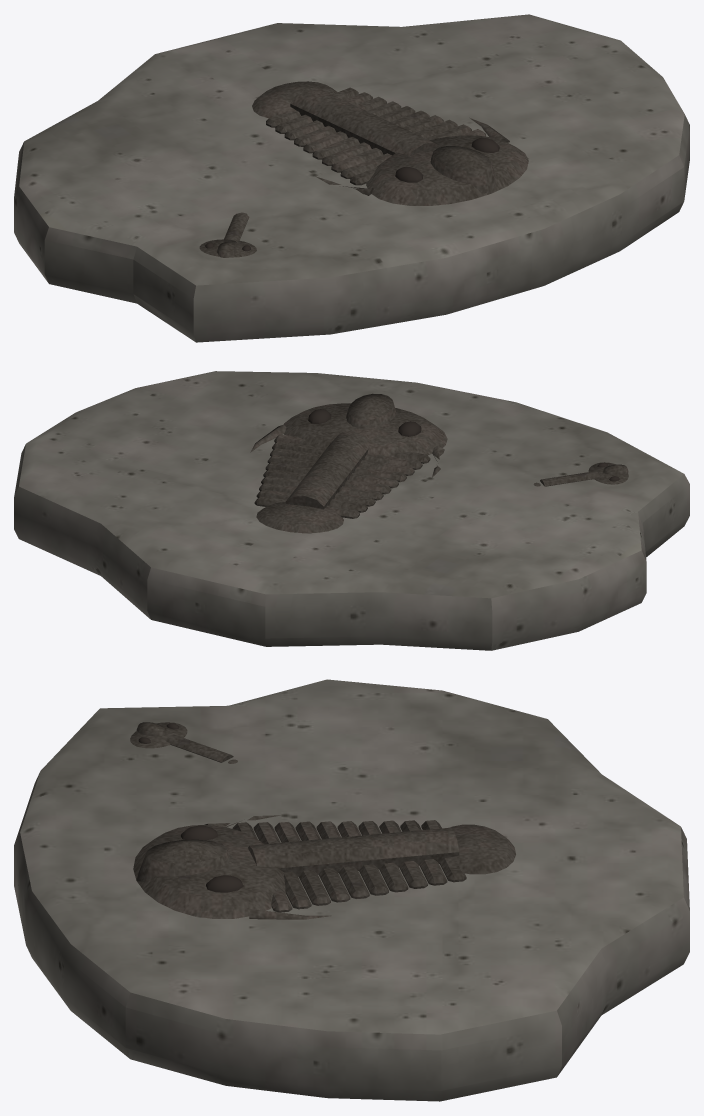
File: trilobite-fossil.glb
The picture shows the model from 3 angles, top to bottom: view 1: azimuth 30°, elevation 25°; view 2: azimuth 150°, elevation 25°; view 3: azimuth 270°, elevation 25°; orthographic projection. The views are drawn at different scales.
Visible parts, largest first — view 1: Trilobite_Fossil; view 2: Trilobite_Fossil; view 3: Trilobite_Fossil.
Boxes of the visible parts, x1,y1,x2,y2 form: Trilobite_Fossil: [14, 14, 689, 342]; Trilobite_Fossil: [14, 371, 689, 650]; Trilobite_Fossil: [14, 679, 689, 1101].
Size of the model in its own units: 0.4966 by 0.072 by 0.3935.
3 materials, 2 textured.
